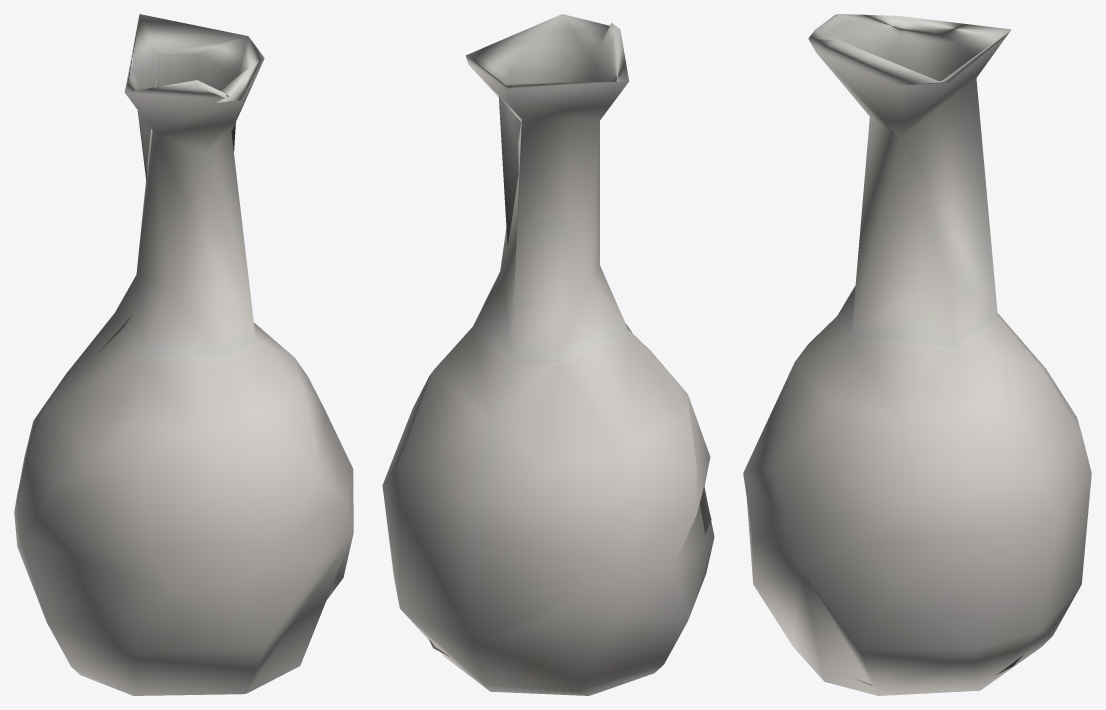
Rendered from vase_a.glb.
3 renders of one model, left to right at view 1: azimuth 30°, elevation 25°; view 2: azimuth 150°, elevation 25°; view 3: azimuth 270°, elevation 25°, orthographic. The views are drawn at different scales.
Parts seen in each view (by area): view 1: vase_a; view 2: vase_a; view 3: vase_a.
Part boxes in pixels (x1,y1,x2,y2): vase_a: (14,14,353,695); vase_a: (382,14,714,695); vase_a: (743,14,1091,695).
Bounding box in the file's own units: 0.2018 × 0.3986 × 0.2015.
1 material, 1 textured.
